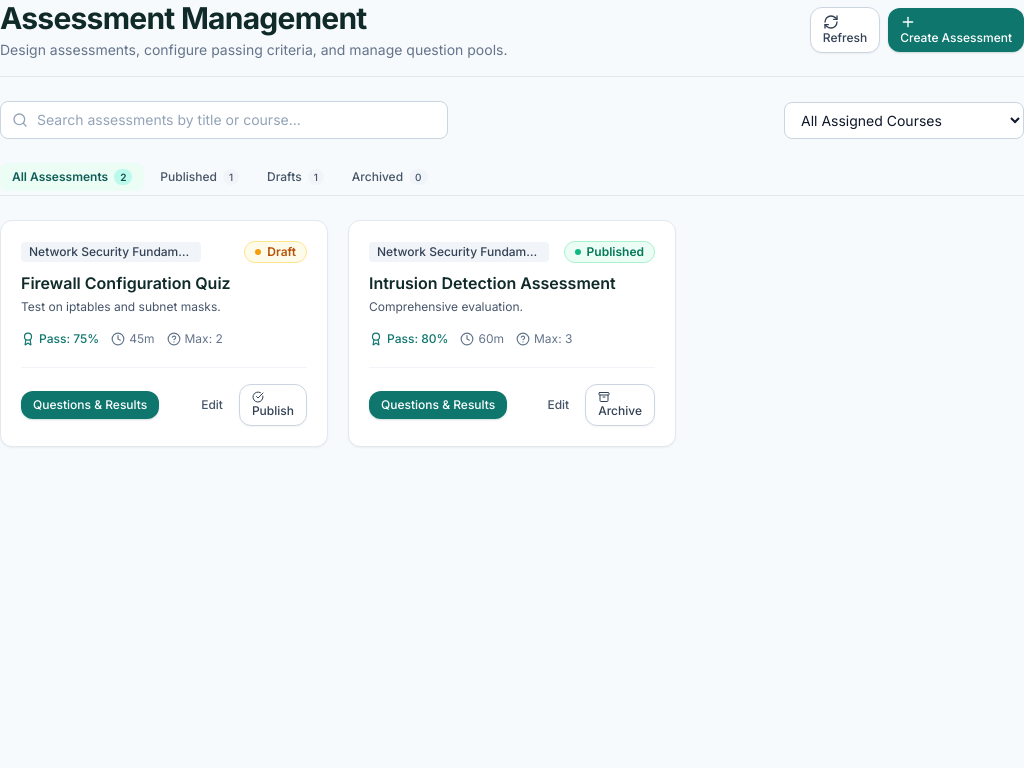
Test: TrainerAssessmentsPage › creates a new assessment via modal
Check: the heading "Firewall Configuration Quiz" is shown, box [21,273,231,293]
Click the button "Create Assessment": (956, 30) [888,8,1023,52]
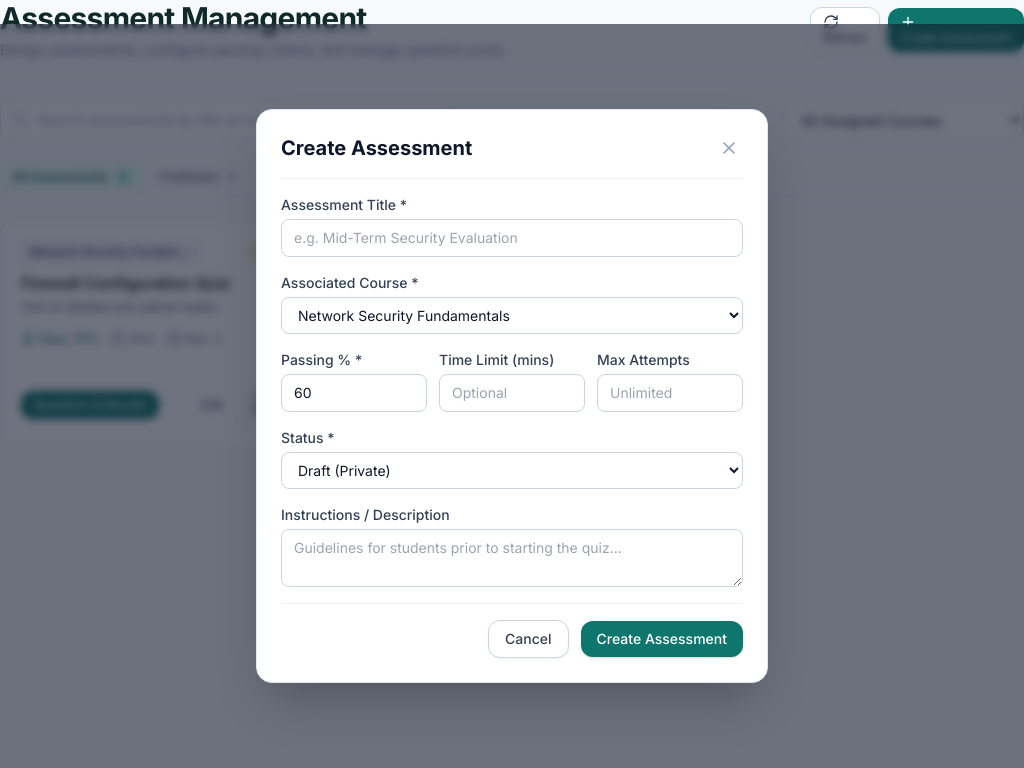
Check: the dialog is shown
In the field labelled "Assessment Title *": (512, 238) [281,219,743,257], type "VPN Protocols & IPSec"
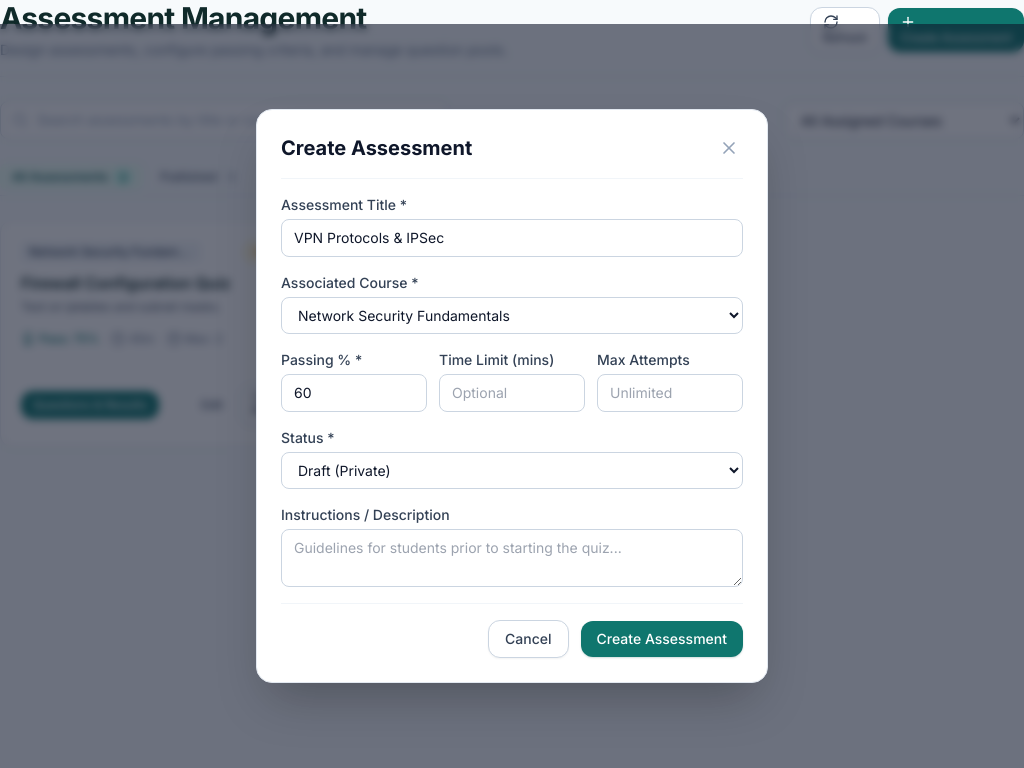
Replace the text in the number field labelled "Passing % *" with "70": (354, 393) [281,374,427,412]
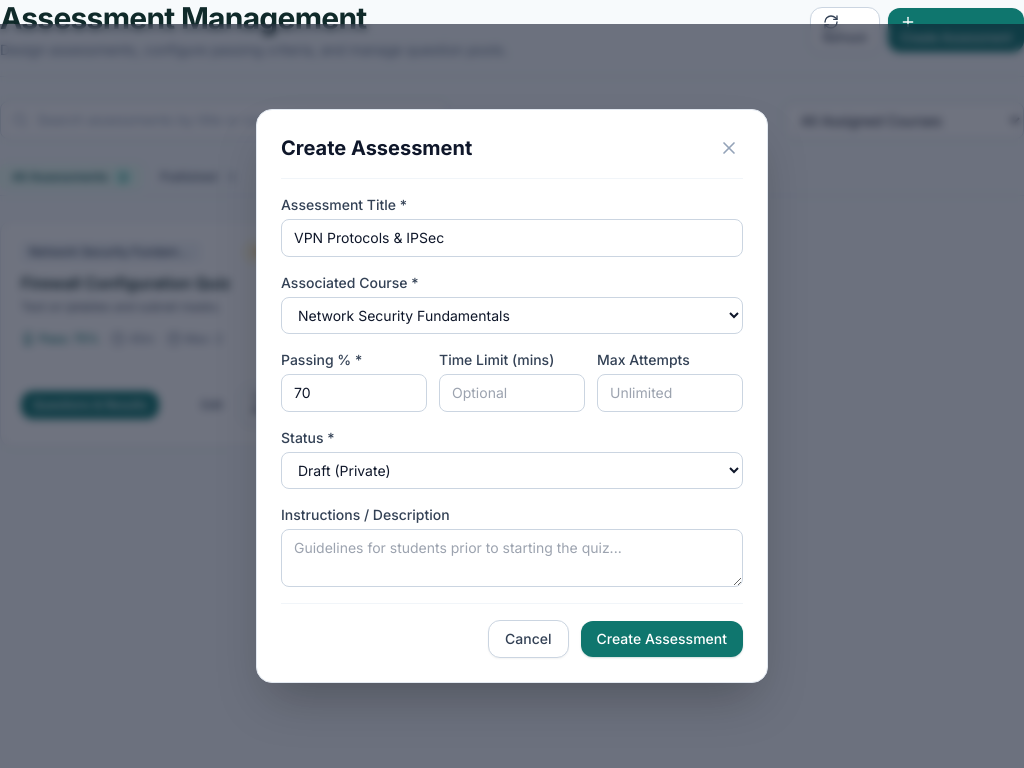
Click the button "Create Assessment": (662, 639) [581,621,743,657]
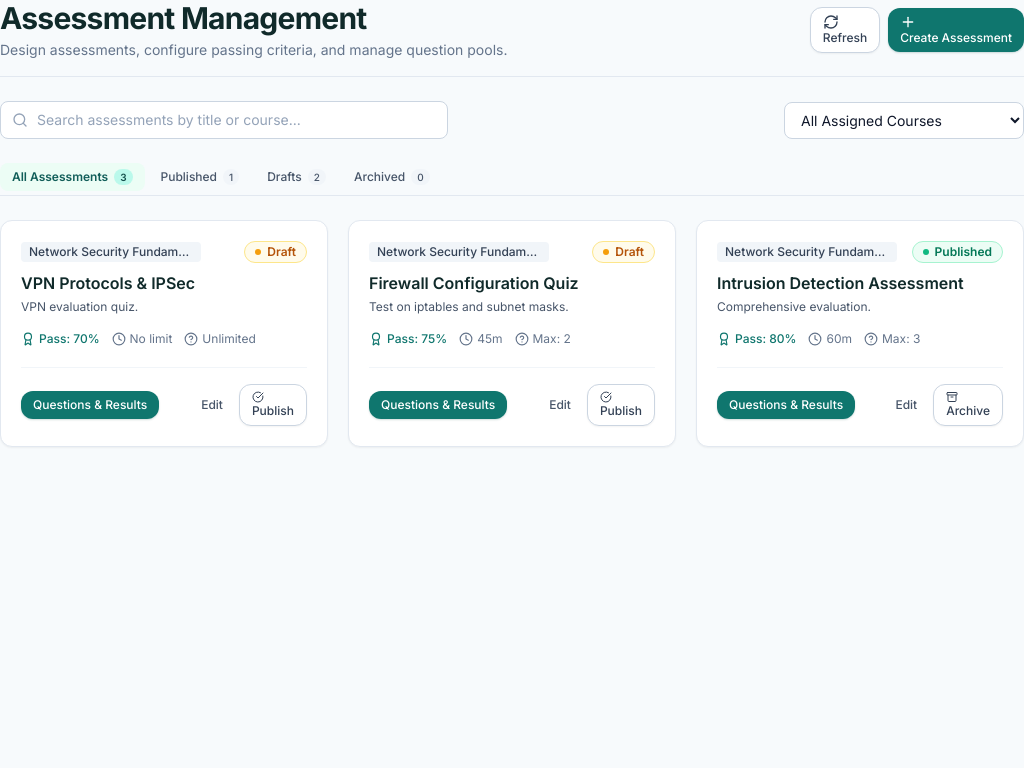
Check: the heading "VPN Protocols & IPSec" is shown, box [21,273,195,293]
